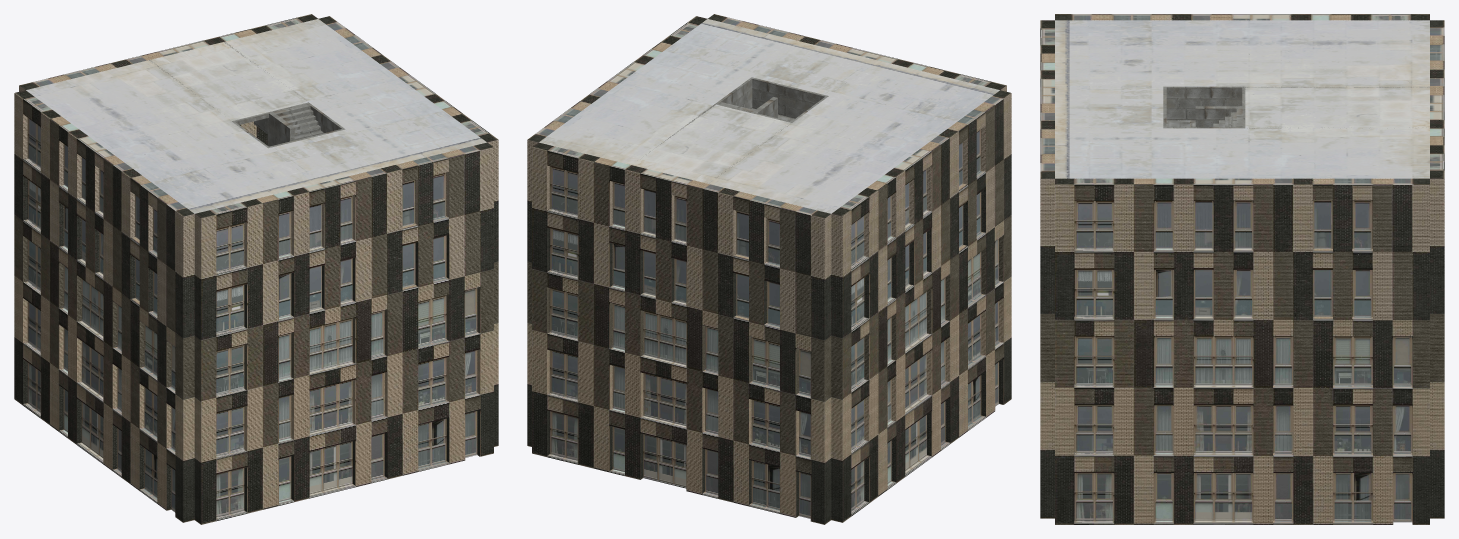
Rendered from BagSS04mid_500.fbx.
3 renders of one model, left to right at view 1: azimuth 30°, elevation 25°; view 2: azimuth 150°, elevation 25°; view 3: azimuth 270°, elevation 25°, orthographic. The views are drawn at different scales.
Parts seen in each view (by area): view 1: midMain500, midfloor500, midStairwell500; view 2: midMain500, midfloor500, midStairwell500; view 3: midMain500, midfloor500, midStairwell500.
Boxes of the visible parts, x1,y1,x2,y2 form: midMain500: (14, 14, 498, 524); midfloor500: (26, 19, 486, 213); midStairwell500: (149, 41, 345, 148); midMain500: (527, 14, 1011, 524); midfloor500: (539, 19, 999, 213); midStairwell500: (649, 77, 828, 183); midMain500: (1040, 14, 1444, 524); midfloor500: (1055, 20, 1429, 178); midStairwell500: (1163, 86, 1429, 128).
Bounding box in the file's own units: 22.1 × 20.5 × 22.1.
